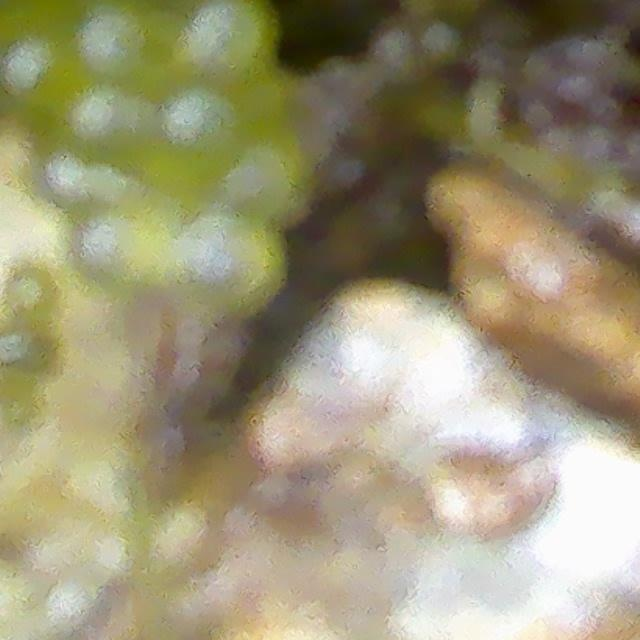SeaGrape: (156, 79, 249, 178), (75, 1, 170, 91), (75, 81, 159, 168), (183, 0, 275, 75), (4, 39, 83, 119)
